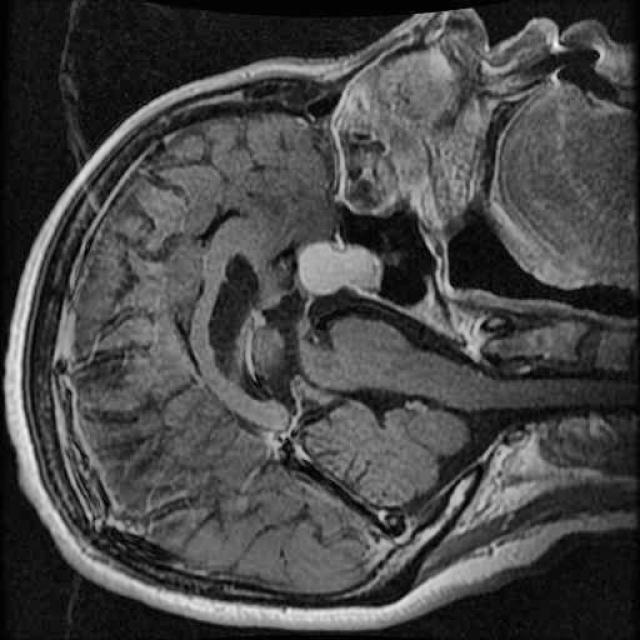Tumor: (284, 228, 395, 310)
